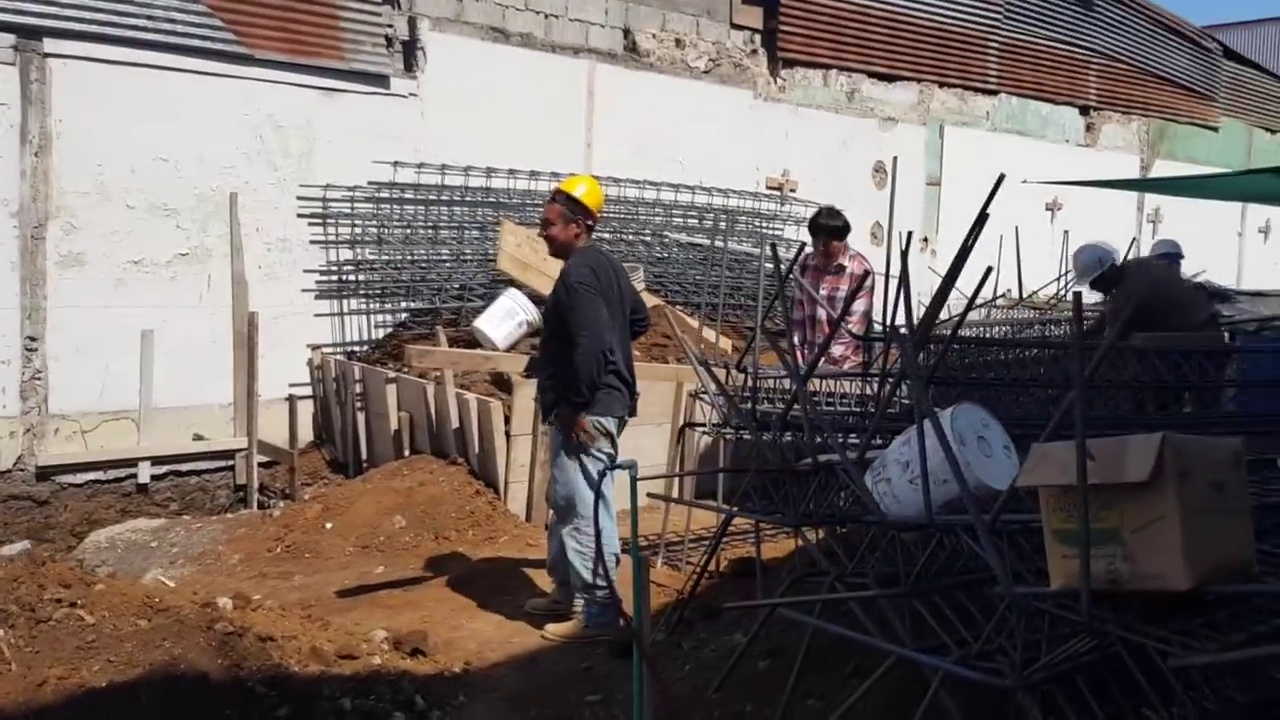helmet: (549, 177, 604, 223), (1071, 239, 1115, 287), (1145, 235, 1188, 262)
helmet-off: (805, 205, 855, 270)
helmet-on: (536, 173, 607, 266), (1073, 238, 1124, 296), (1144, 235, 1193, 285)
person: (522, 166, 652, 670), (1069, 237, 1220, 346), (787, 205, 878, 382)
